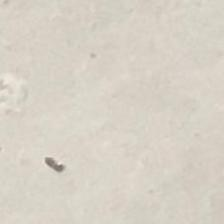Non_Crack: (19, 11, 214, 216)
